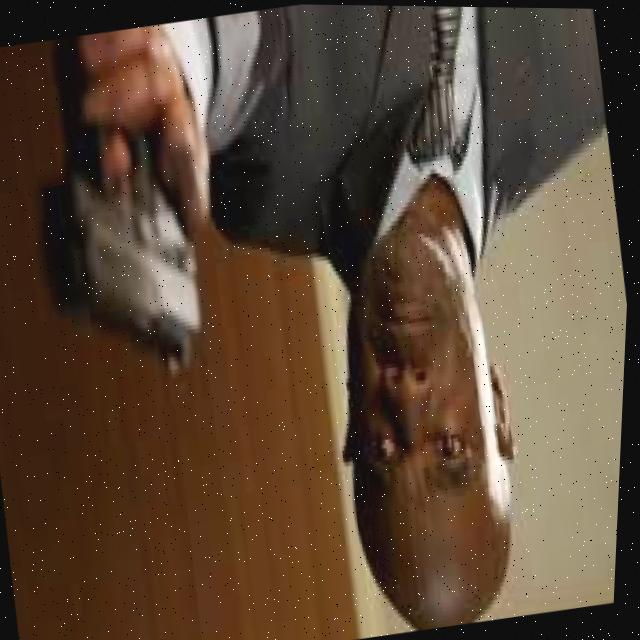pistol: (17, 104, 224, 396)
